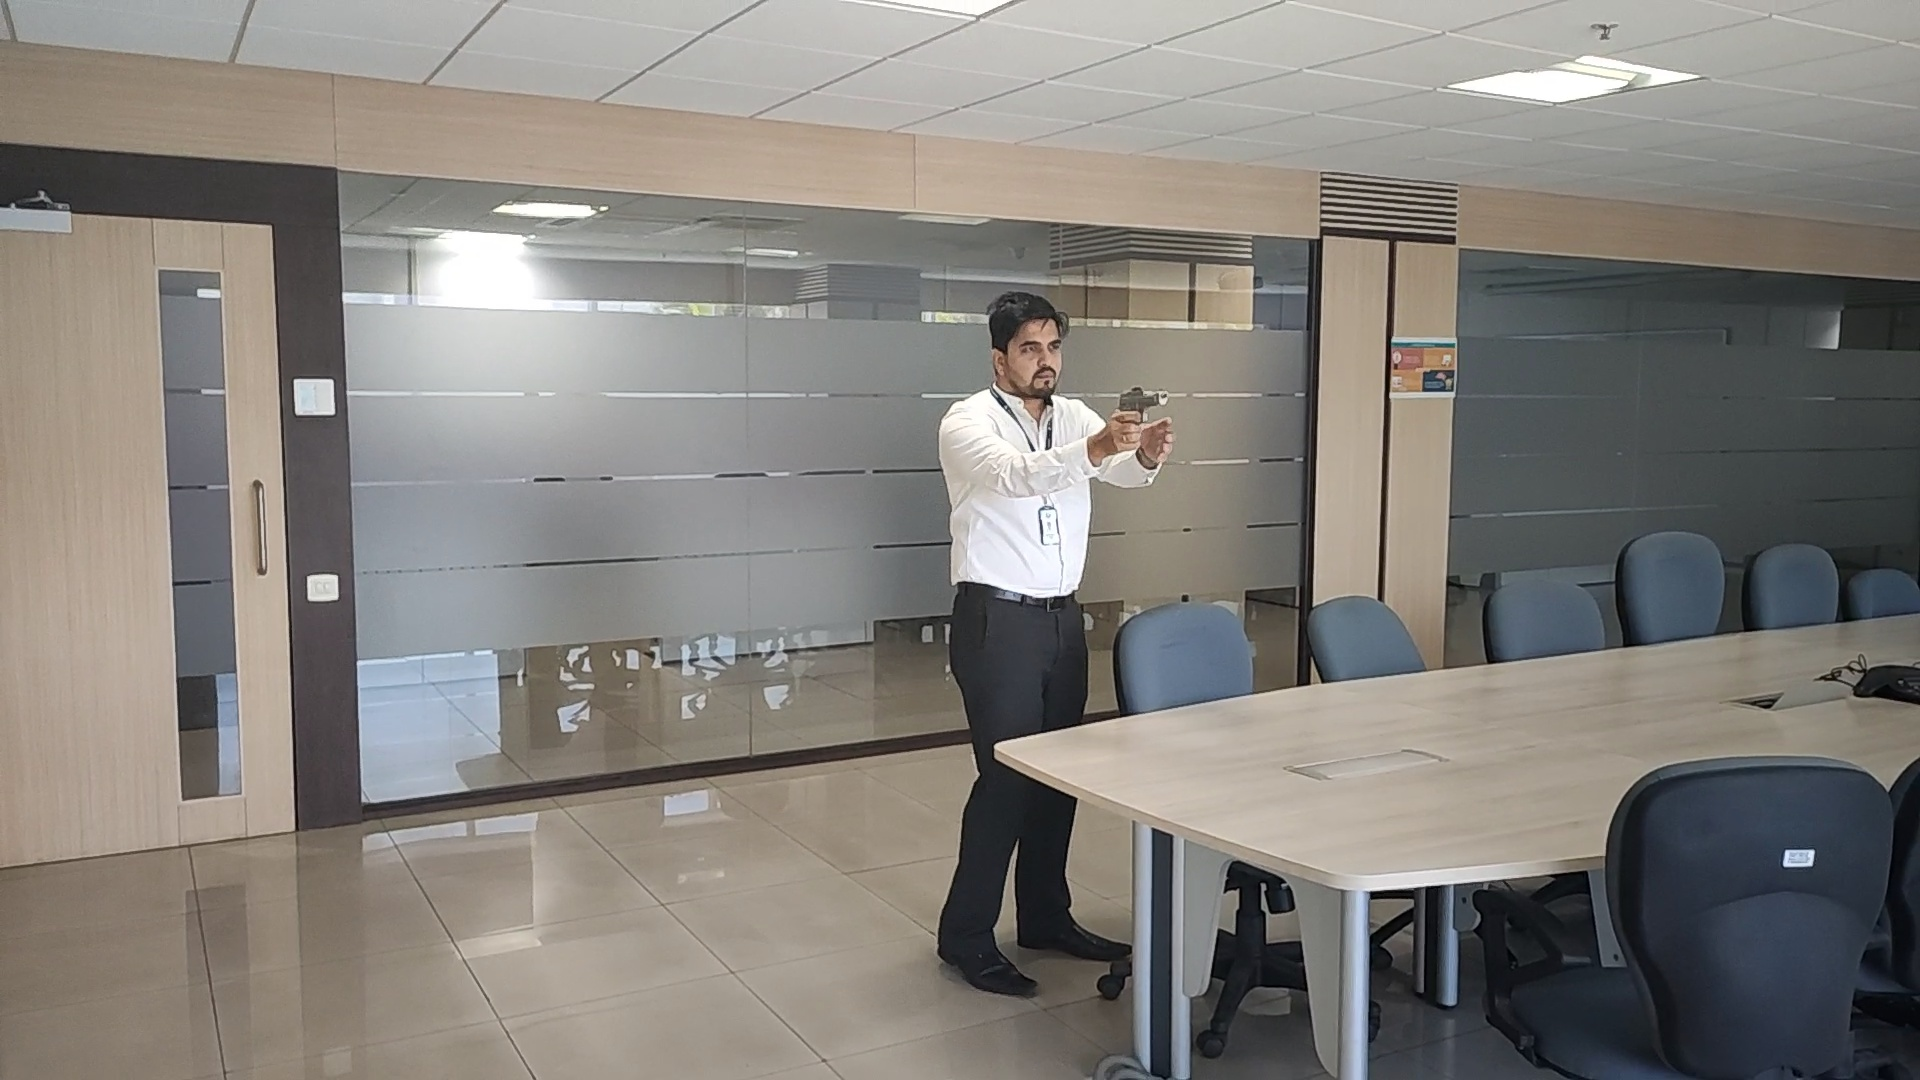gun: (1118, 386, 1171, 417)
